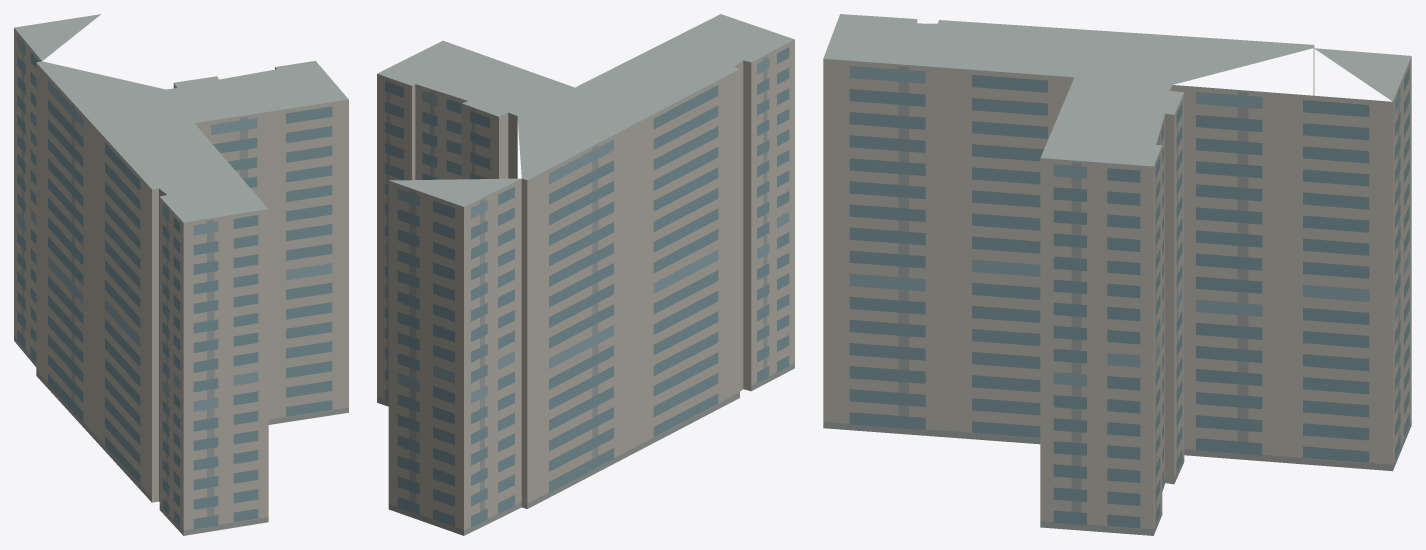
The model's file is residential-d3a9881c-daf3-4fd9-9cb6-44ee34957171.glb.
3 views of the same model, side by side, from view 1: azimuth 30°, elevation 25°; view 2: azimuth 150°, elevation 25°; view 3: azimuth 270°, elevation 25° (orthographic). The views are drawn at different scales.
Parts seen in each view (by area): view 1: residential-d3a9881c-daf3-4fd9-9cb6-44ee34957171.tmp; view 2: residential-d3a9881c-daf3-4fd9-9cb6-44ee34957171.tmp; view 3: residential-d3a9881c-daf3-4fd9-9cb6-44ee34957171.tmp.
Boxes of the visible parts, x1,y1,x2,y2 form: residential-d3a9881c-daf3-4fd9-9cb6-44ee34957171.tmp: [14, 14, 348, 535]; residential-d3a9881c-daf3-4fd9-9cb6-44ee34957171.tmp: [377, 14, 794, 535]; residential-d3a9881c-daf3-4fd9-9cb6-44ee34957171.tmp: [823, 14, 1411, 535].
Size of the model in its own units: 40.25 by 45.46 by 65.63.
